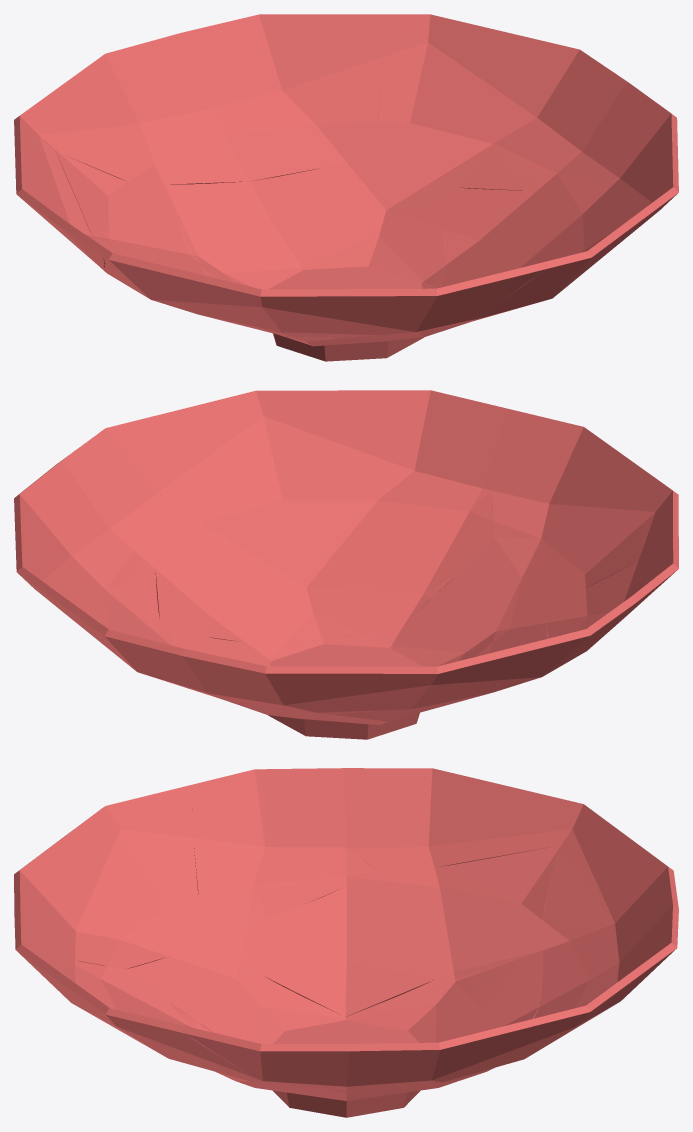
The model's file is fat (1).glb.
3 renders of one model, top to bottom at view 1: azimuth 30°, elevation 25°; view 2: azimuth 150°, elevation 25°; view 3: azimuth 270°, elevation 25°, orthographic.
Visible parts, largest first — view 1: Fat, Roundcube_cell.001, Roundcube_cell.009, Roundcube_cell.005, Roundcube_cell.008, Roundcube_cell, Roundcube_cell.006, Roundcube_cell.004, Roundcube_cell.007, Roundcube_cell.002; view 2: Fat, Roundcube_cell.008, Roundcube_cell.006, Roundcube_cell.009, Roundcube_cell.003, Roundcube_cell.005, Roundcube_cell.004, Roundcube_cell.002, Roundcube_cell.007, Roundcube_cell; view 3: Fat, Roundcube_cell, Roundcube_cell.006, Roundcube_cell.009, Roundcube_cell.002, Roundcube_cell.005, Roundcube_cell.001, Roundcube_cell.004, Roundcube_cell.003, Roundcube_cell.008, Roundcube_cell.007.
Boxes of the visible parts, left/top/right/bottom form: Fat: left=14, top=14, right=678, bottom=361; Roundcube_cell.001: left=165, top=163, right=385, bottom=289; Roundcube_cell.009: left=39, top=22, right=383, bottom=184; Roundcube_cell.005: left=378, top=14, right=677, bottom=190; Roundcube_cell.008: left=419, top=150, right=677, bottom=336; Roundcube_cell: left=56, top=151, right=293, bottom=336; Roundcube_cell.006: left=173, top=262, right=545, bottom=337; Roundcube_cell.004: left=16, top=116, right=107, bottom=271; Roundcube_cell.007: left=369, top=184, right=445, bottom=288; Roundcube_cell.002: left=104, top=251, right=287, bottom=335; Fat: left=14, top=390, right=678, bottom=739; Roundcube_cell.008: left=155, top=390, right=492, bottom=642; Roundcube_cell.006: left=488, top=427, right=678, bottom=587; Roundcube_cell.009: left=39, top=583, right=437, bottom=714; Roundcube_cell.003: left=391, top=538, right=521, bottom=666; Roundcube_cell.005: left=14, top=429, right=160, bottom=633; Roundcube_cell.004: left=433, top=566, right=673, bottom=684; Roundcube_cell.002: left=548, top=533, right=678, bottom=651; Roundcube_cell.007: left=160, top=630, right=396, bottom=666; Roundcube_cell: left=370, top=623, right=548, bottom=717; Fat: left=14, top=768, right=674, bottom=1107; Roundcube_cell: left=240, top=847, right=557, bottom=1016; Roundcube_cell.006: left=15, top=785, right=198, bottom=969; Roundcube_cell.009: left=533, top=819, right=678, bottom=1018; Roundcube_cell.002: left=192, top=769, right=375, bottom=926; Roundcube_cell.005: left=184, top=990, right=611, bottom=1093; Roundcube_cell.001: left=345, top=950, right=542, bottom=1107; Roundcube_cell.004: left=344, top=768, right=568, bottom=870; Roundcube_cell.003: left=126, top=956, right=344, bottom=1043; Roundcube_cell.008: left=15, top=923, right=425, bottom=1100; Roundcube_cell.007: left=287, top=1073, right=482, bottom=1117.
Size of the model in its own units: 0.5271 by 0.1555 by 0.5272.
